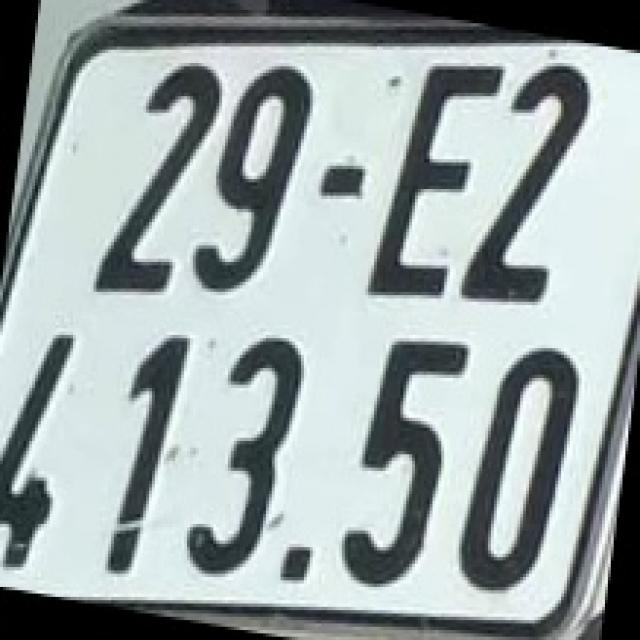0: (456, 338, 582, 597)
1: (99, 325, 190, 577)
2: (462, 52, 587, 308), (90, 56, 210, 298)
3: (184, 328, 304, 577)
4: (0, 328, 73, 570)
5: (342, 332, 465, 590)
9: (206, 56, 311, 302)
E: (362, 64, 500, 304)
